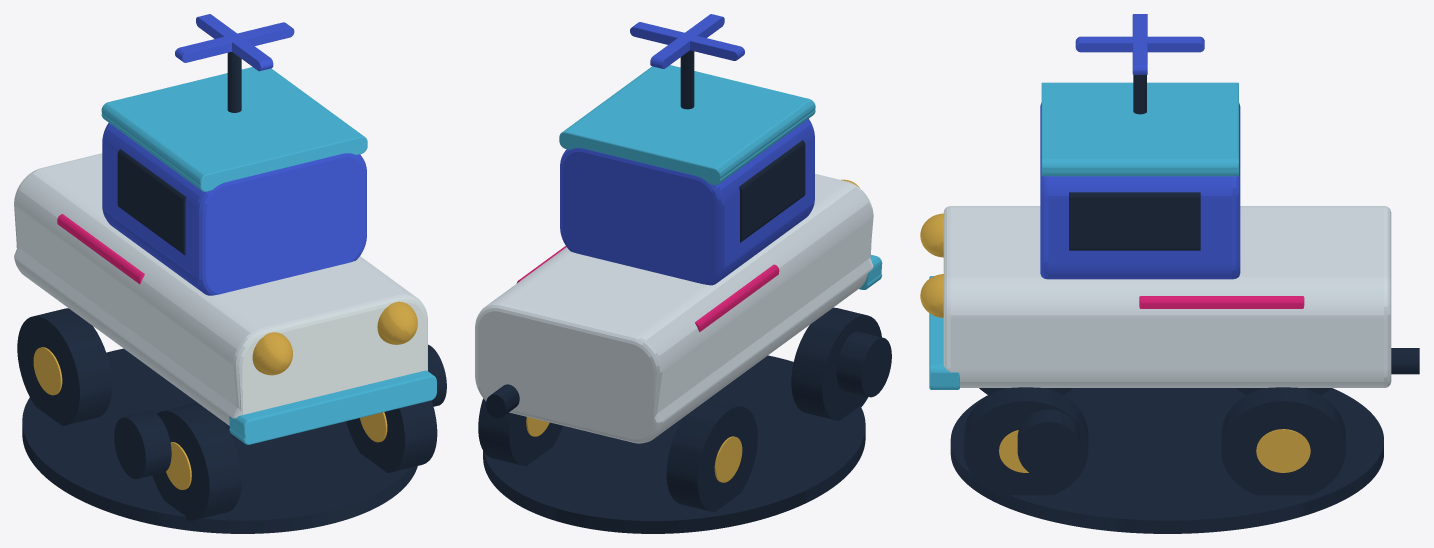
Rendered from 1166_海底两万里_鱼类标记法.glb.
3 views of the same model, side by side, from view 1: azimuth 30°, elevation 25°; view 2: azimuth 150°, elevation 25°; view 3: azimuth 270°, elevation 25° (orthographic). The views are drawn at different scales.
Parts seen in each view (by area): view 1: card_1166; view 2: card_1166; view 3: card_1166.
Boxes of the visible parts, x1,y1,x2,y2 form: card_1166: (14, 14, 446, 533); card_1166: (475, 14, 891, 533); card_1166: (920, 14, 1419, 533).
Size of the model in its own units: 0.8333 by 1 by 1.09.
